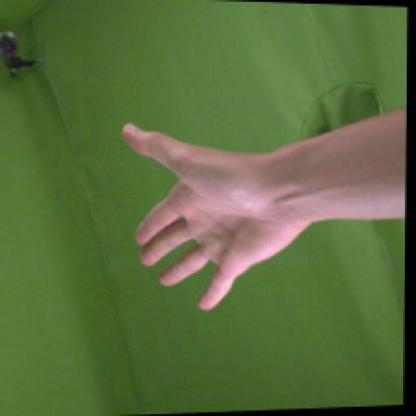Hand: (123, 123, 309, 311)
